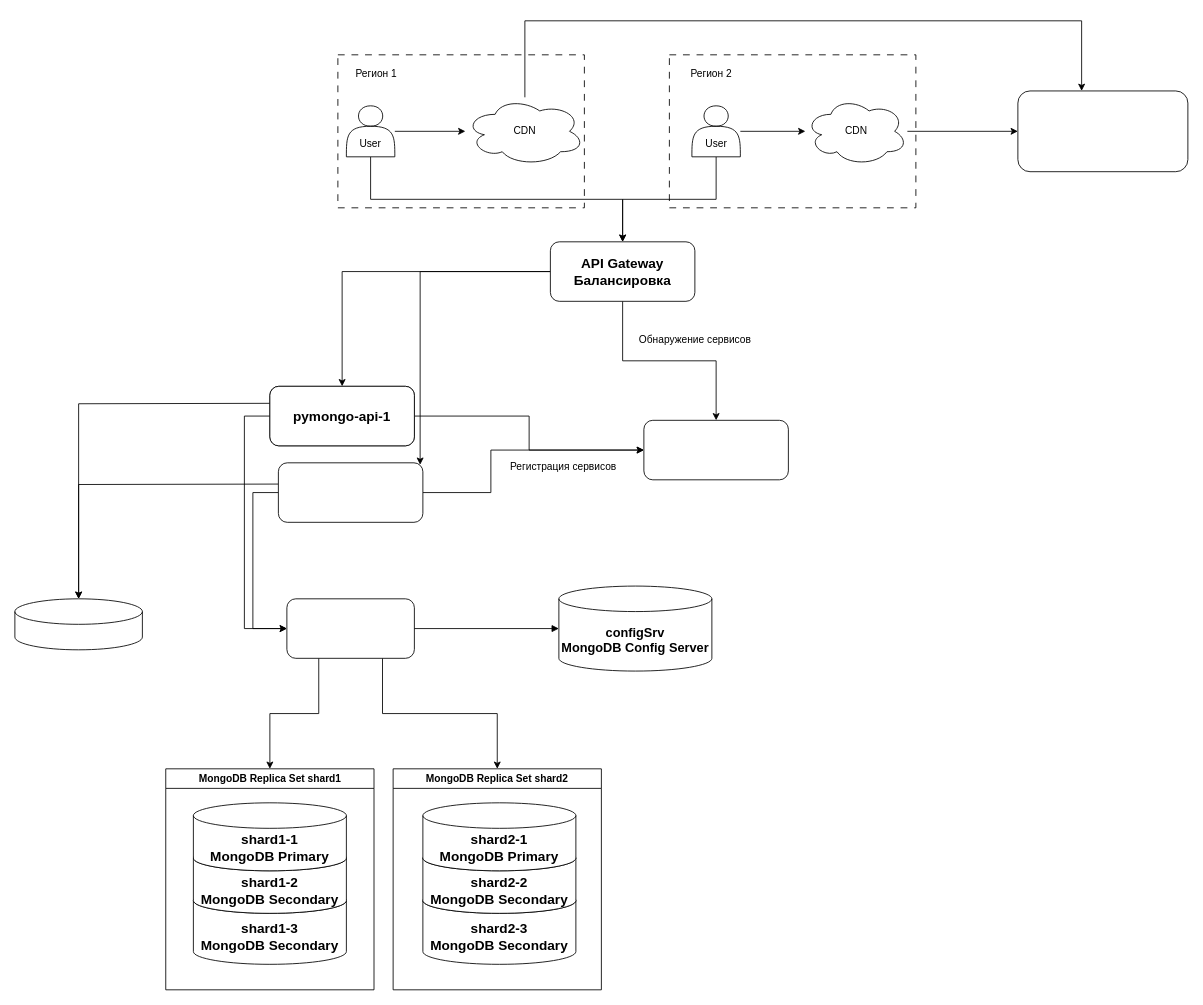
This 1203x1005 diagram has some shape labels left out. Here are the shapes that lost their labels. From the top down, the centre of each, then its label:
At (1102,131): "Yandex Object Storage Статический контент".
At (715,449): "Consul Service Discovery".
At (350,492): "pymongo-api-2".
At (78,624): "Redis".
At (350,628): "mongodb-router".
